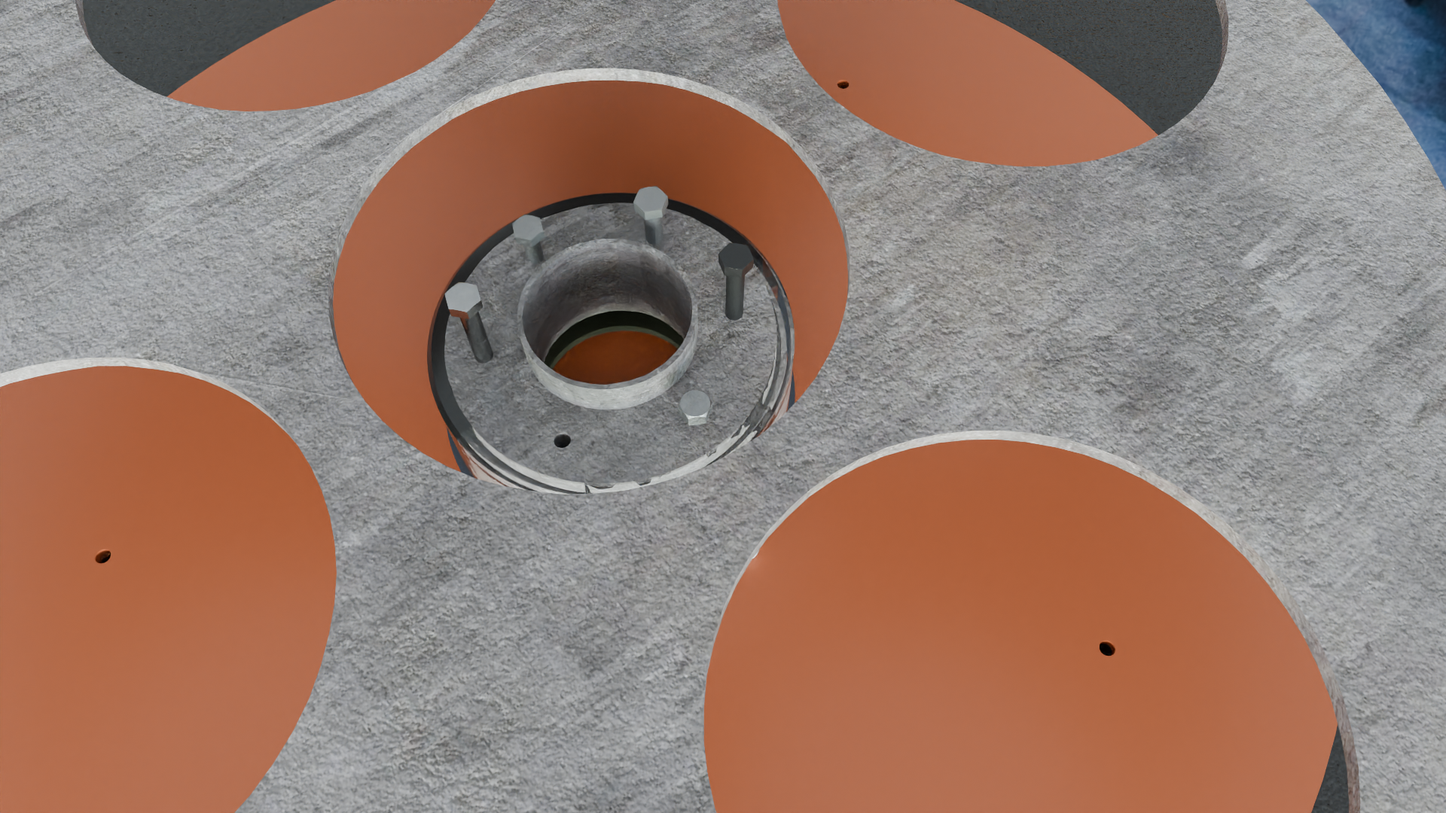bolt: (444, 282, 480, 312), (678, 390, 712, 419), (718, 243, 754, 270), (633, 186, 667, 212), (512, 215, 543, 240)
